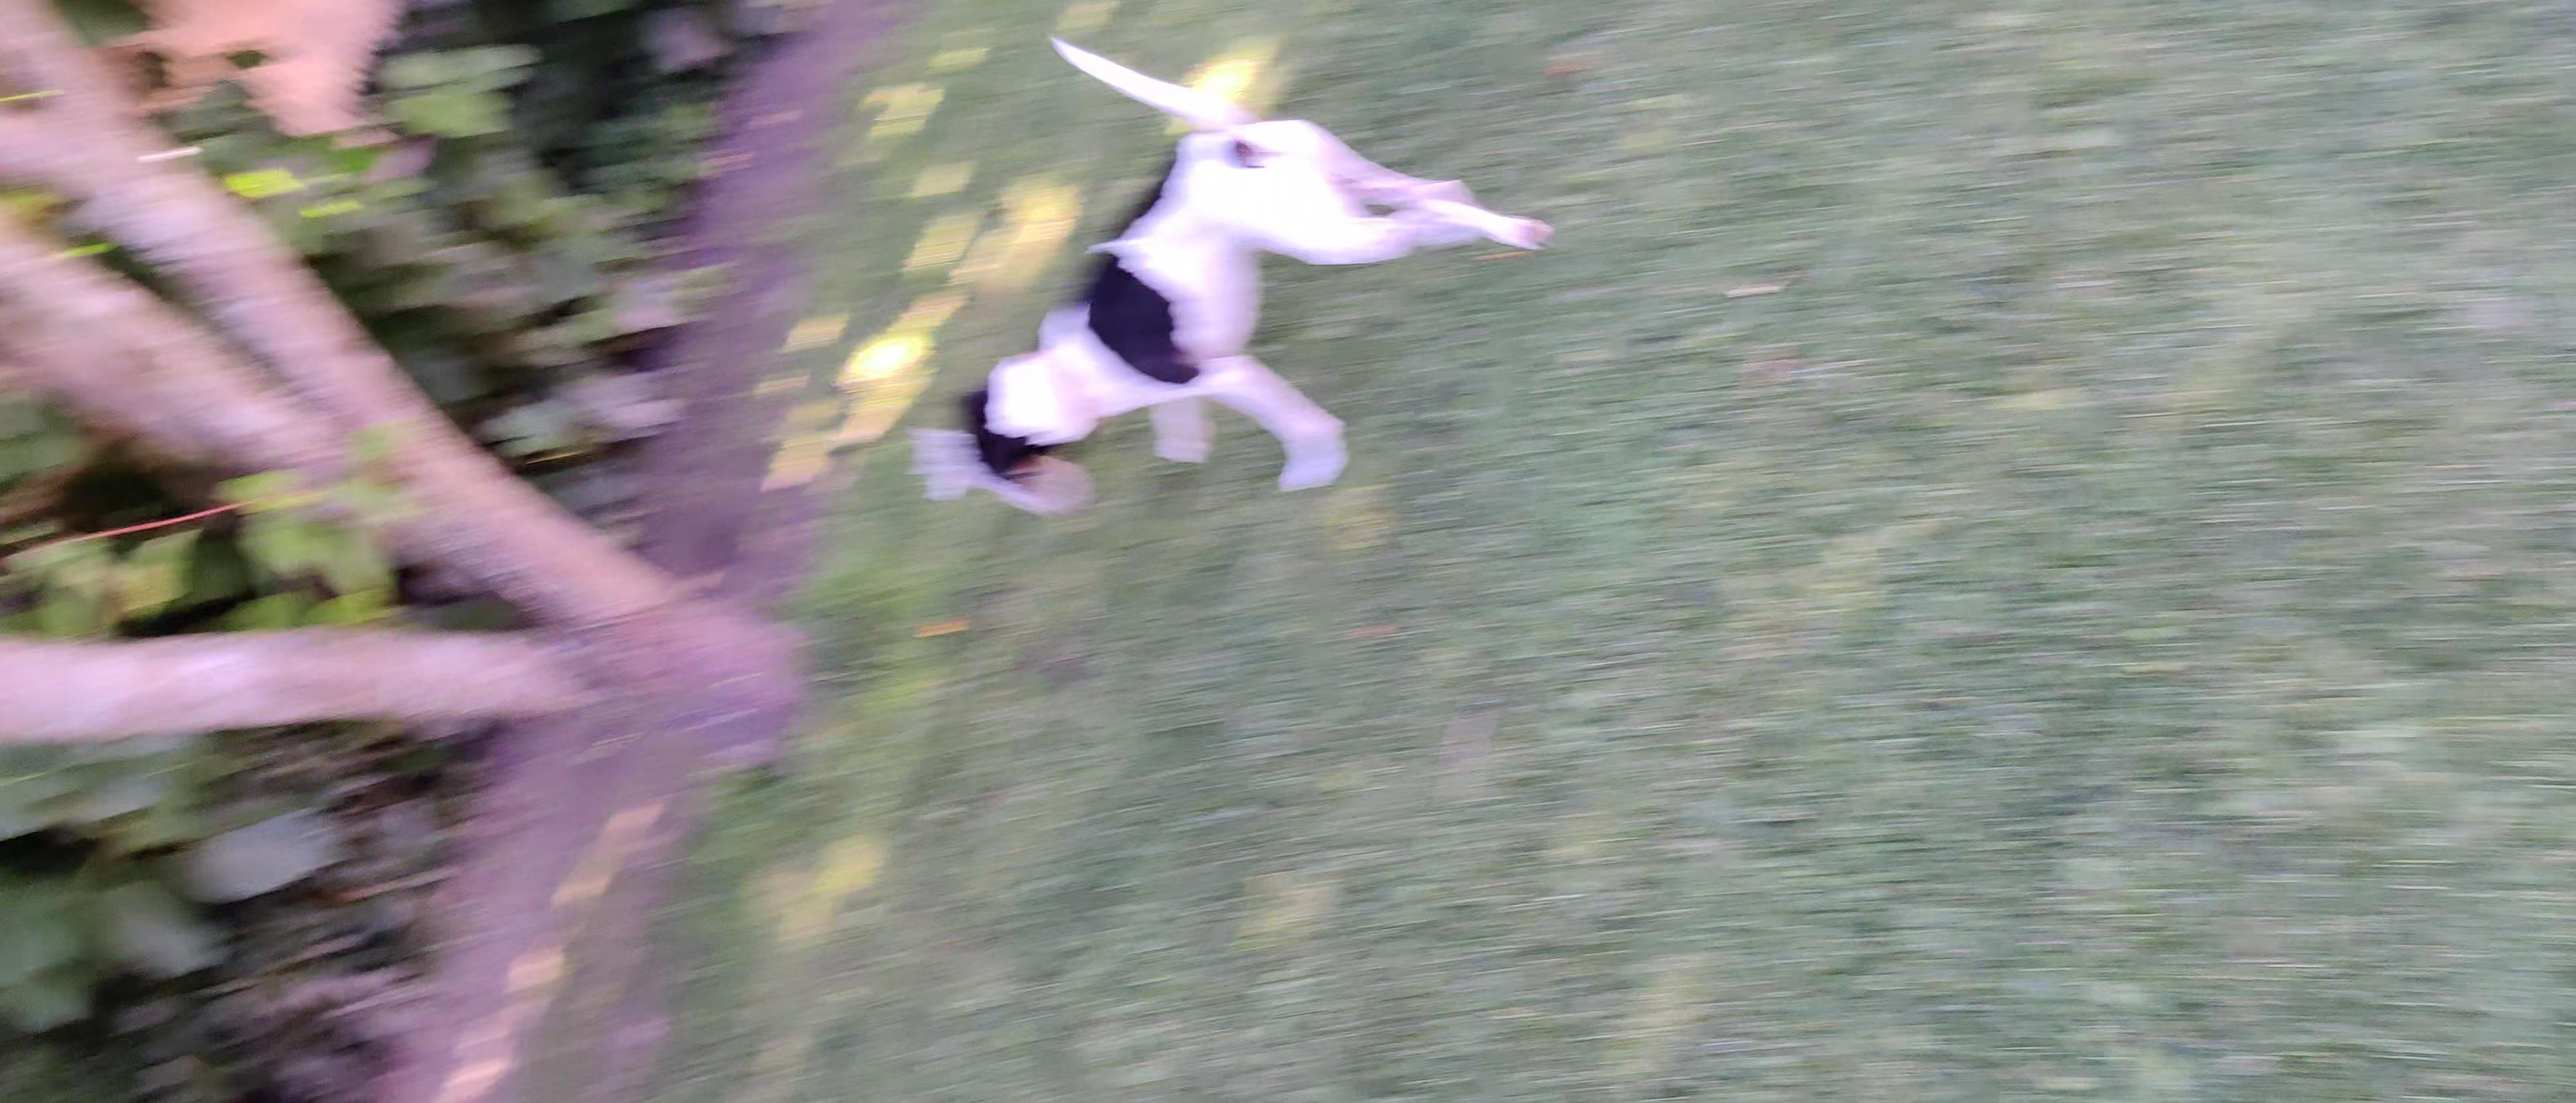Dog: (943, 33, 1564, 495)
